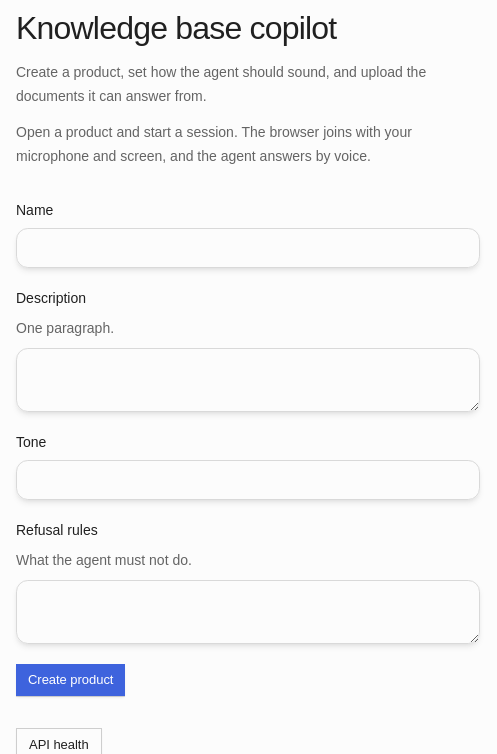
Test: create shows the api error
Type "Acme" into the field labelled "Name" at [248, 248], box [16, 228, 480, 268]
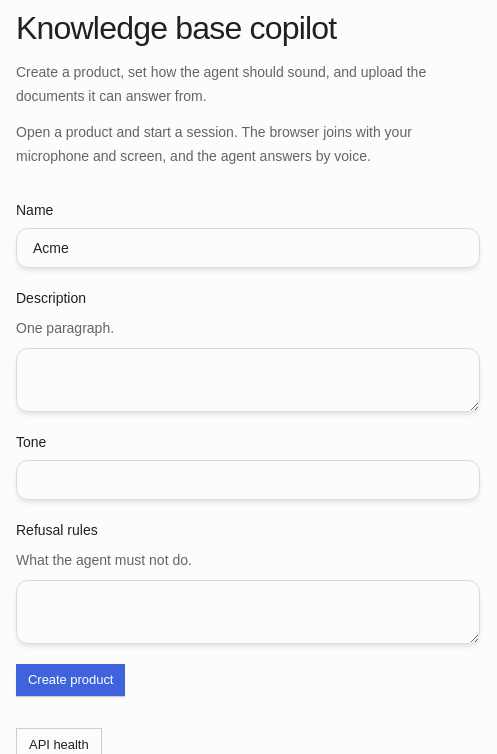
Type "Acme helps customers reset passwords." into the text box labelled "Description" at [248, 380], box [16, 348, 480, 412]
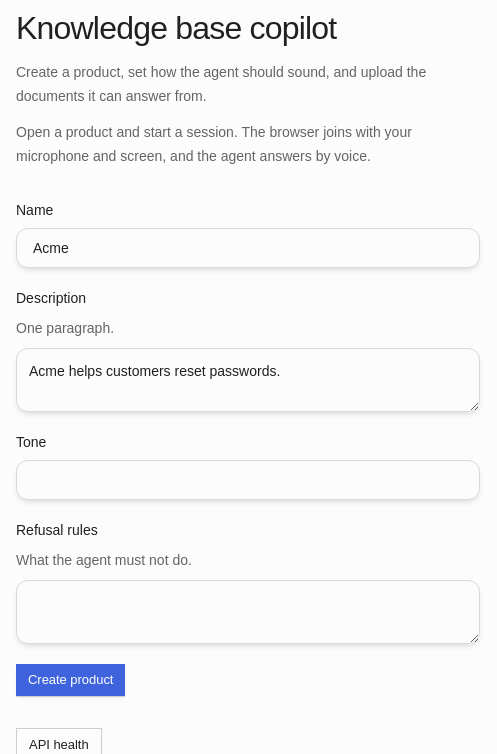
Type "calm and brief" into the field labelled "Tone" at [248, 480], box [16, 460, 480, 500]
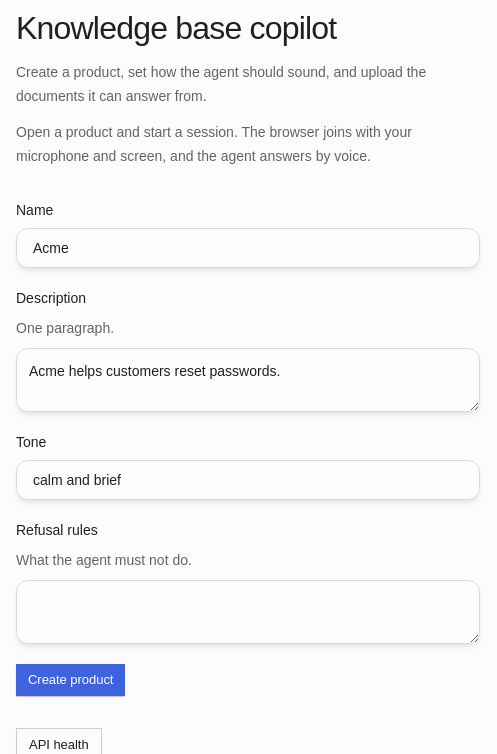
Type "Do not invent a refund policy." into the text box labelled "Refusal rules" at [248, 612], box [16, 580, 480, 644]
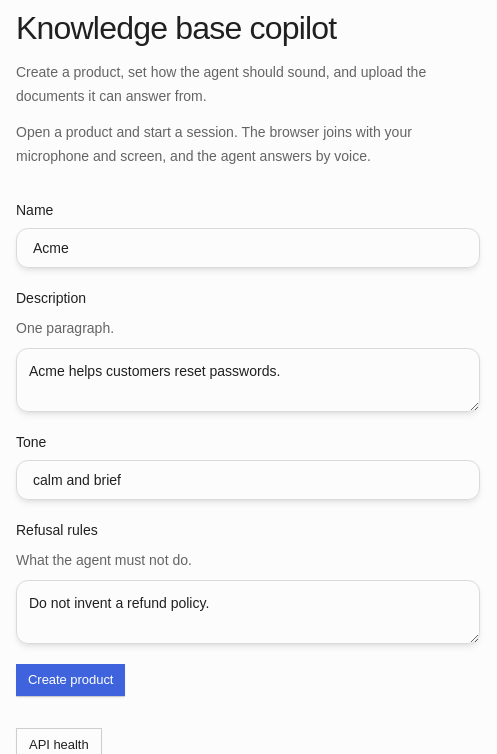
Click the button "Create product" at [71, 680], box [16, 664, 126, 696]
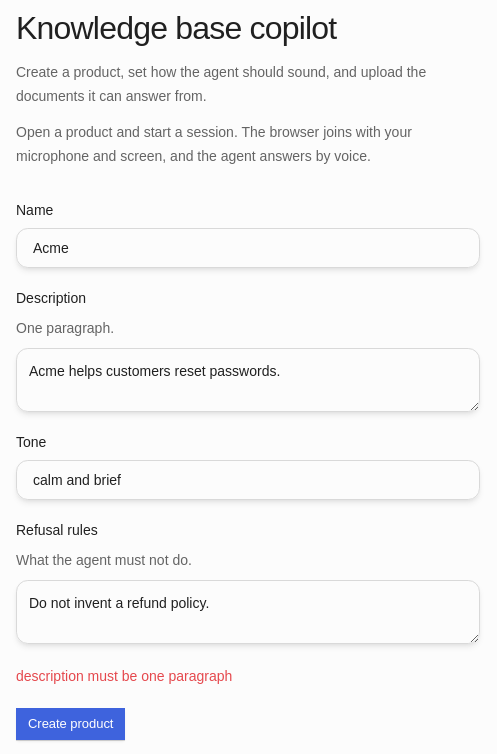
Now the message shows "one paragraph", box [16, 668, 232, 684]
